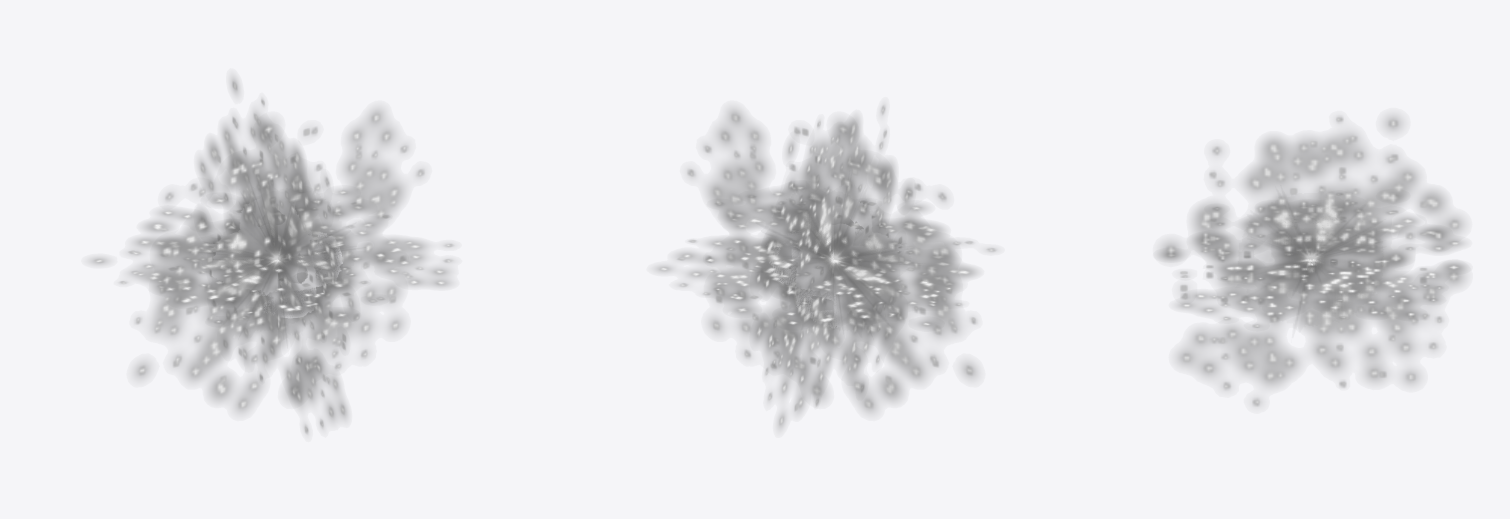
File: si_eos_2200.glb
3 renders of one model, left to right at view 1: azimuth 30°, elevation 25°; view 2: azimuth 150°, elevation 25°; view 3: azimuth 270°, elevation 25°, orthographic. The views are drawn at different scales.
Visible parts, largest first — view 1: layer_01_si_est_0200, layer_00_si_est_0000; view 2: layer_01_si_est_0200, layer_00_si_est_0000; view 3: layer_01_si_est_0200, layer_00_si_est_0000.
Part boxes in pixels (left/top/right/bottom): layer_01_si_est_0200: left=91, top=78, right=453, bottom=433; layer_00_si_est_0000: left=241, top=201, right=323, bottom=320; layer_01_si_est_0200: left=657, top=105, right=996, bottom=427; layer_00_si_est_0000: left=786, top=213, right=889, bottom=311; layer_01_si_est_0200: left=1158, top=116, right=1466, bottom=406; layer_00_si_est_0000: left=1259, top=225, right=1358, bottom=290.
Bounding box in the file's own units: 5.04 × 5.04 × 5.04.
Materials: 2 (2 with a texture image).
